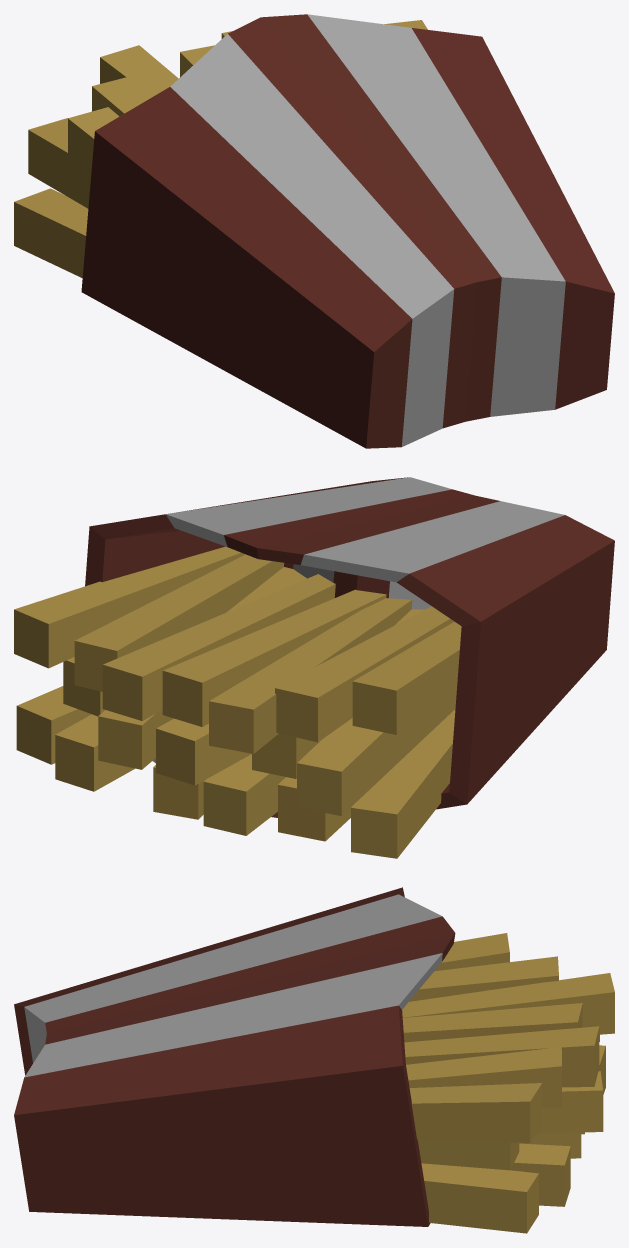
File: Fries.obj
3 views of the same model, one above another, from view 1: azimuth 30°, elevation 25°; view 2: azimuth 150°, elevation 25°; view 3: azimuth 270°, elevation 25° (orthographic). The views are drawn at different scales.
Parts seen in each view (by area): view 1: mesh_0, mesh_1, mesh_2; view 2: mesh_2, mesh_0, mesh_1; view 3: mesh_0, mesh_2, mesh_1.
Part boxes in pixels (x1,y1,x2,y2): mesh_0: (81,14,614,448); mesh_1: (170,14,565,446); mesh_2: (14,20,427,278); mesh_2: (14,546,461,858); mesh_0: (85,477,614,817); mesh_1: (153,477,564,763); mesh_0: (14,887,455,1226); mesh_2: (402,933,614,1233); mesh_1: (24,894,442,1077).
Bounding box in the file's own units: 0.9488 × 0.5857 × 1.33.
